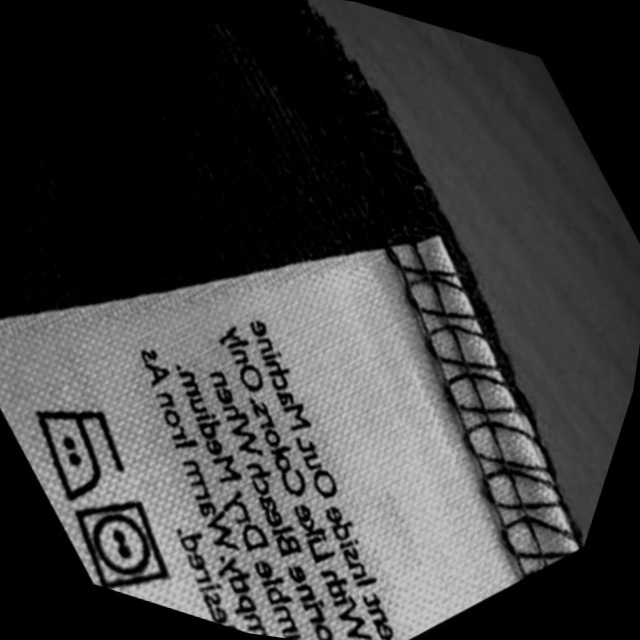iron_medium: (6, 387, 140, 512)
tumble_dry_medium: (52, 482, 188, 605)
